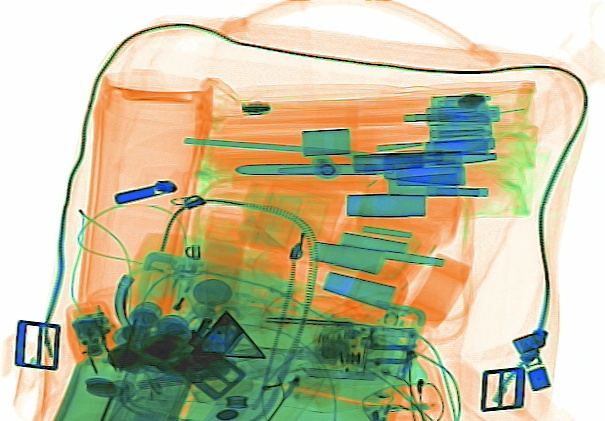lighter: (149, 260, 203, 337)
